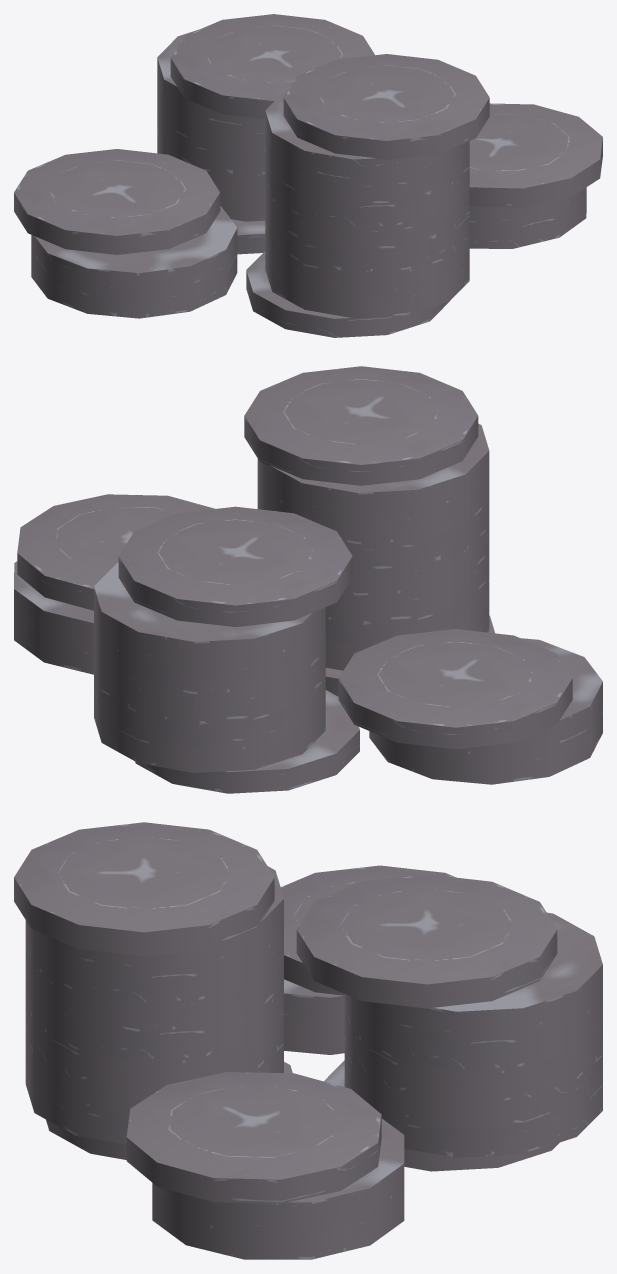
Rendered from Coin_Pile.gltf.
3 renders of one model, top to bottom at view 1: azimuth 30°, elevation 25°; view 2: azimuth 150°, elevation 25°; view 3: azimuth 270°, elevation 25°, orthographic. The views are drawn at different scales.
Visible parts, largest first — view 1: Coin_Pile; view 2: Coin_Pile; view 3: Coin_Pile.
Boxes of the visible parts, x1=… form: Coin_Pile: x1=14, y1=14, x2=602, y2=337; Coin_Pile: x1=14, y1=366, x2=602, y2=793; Coin_Pile: x1=14, y1=822, x2=602, y2=1259.
Bounding box in the file's own units: 0.1975 × 0.0735 × 0.1542.
Materials: 1 (1 with a texture image).
